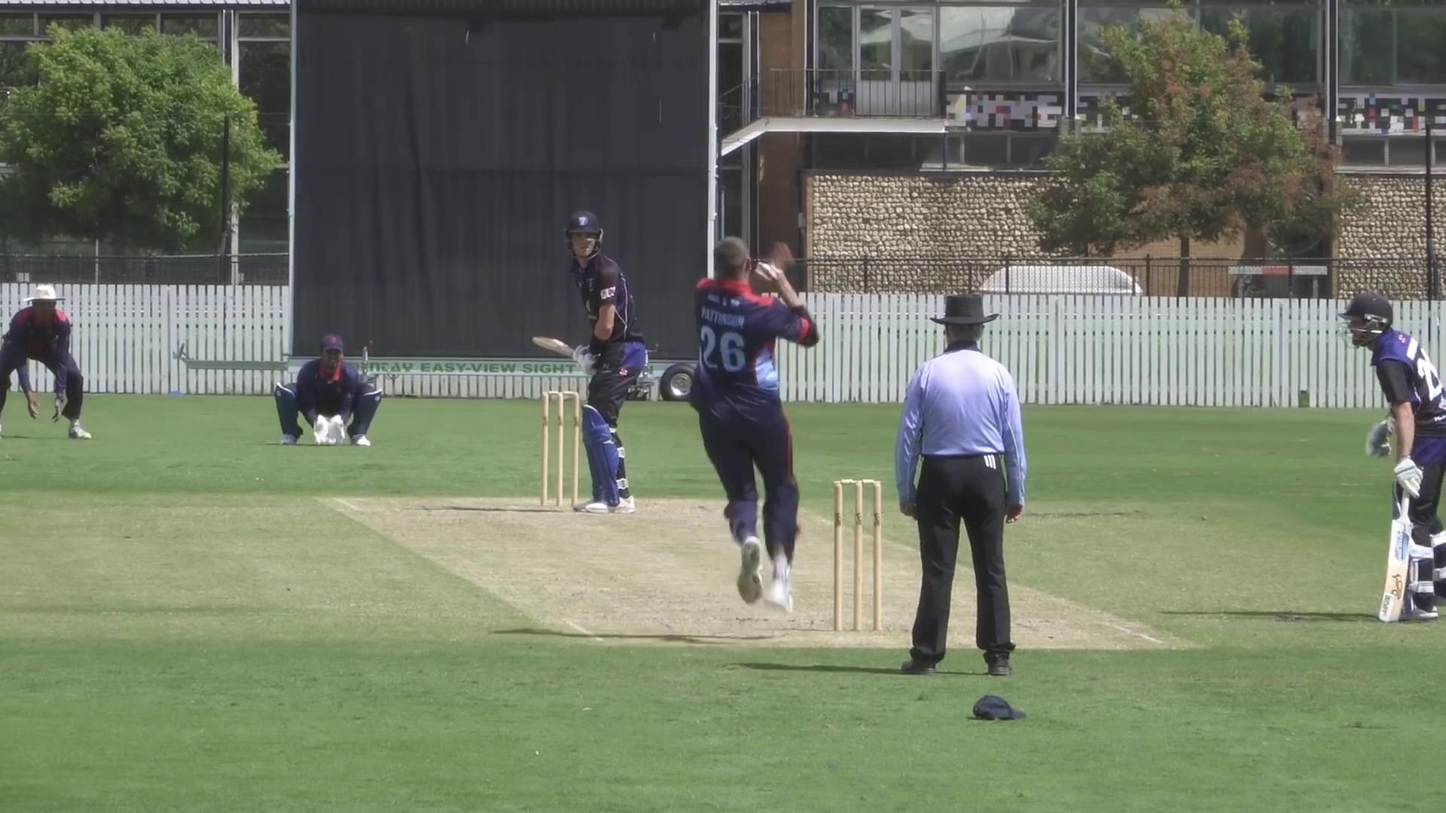ball: (750, 259, 779, 281)
